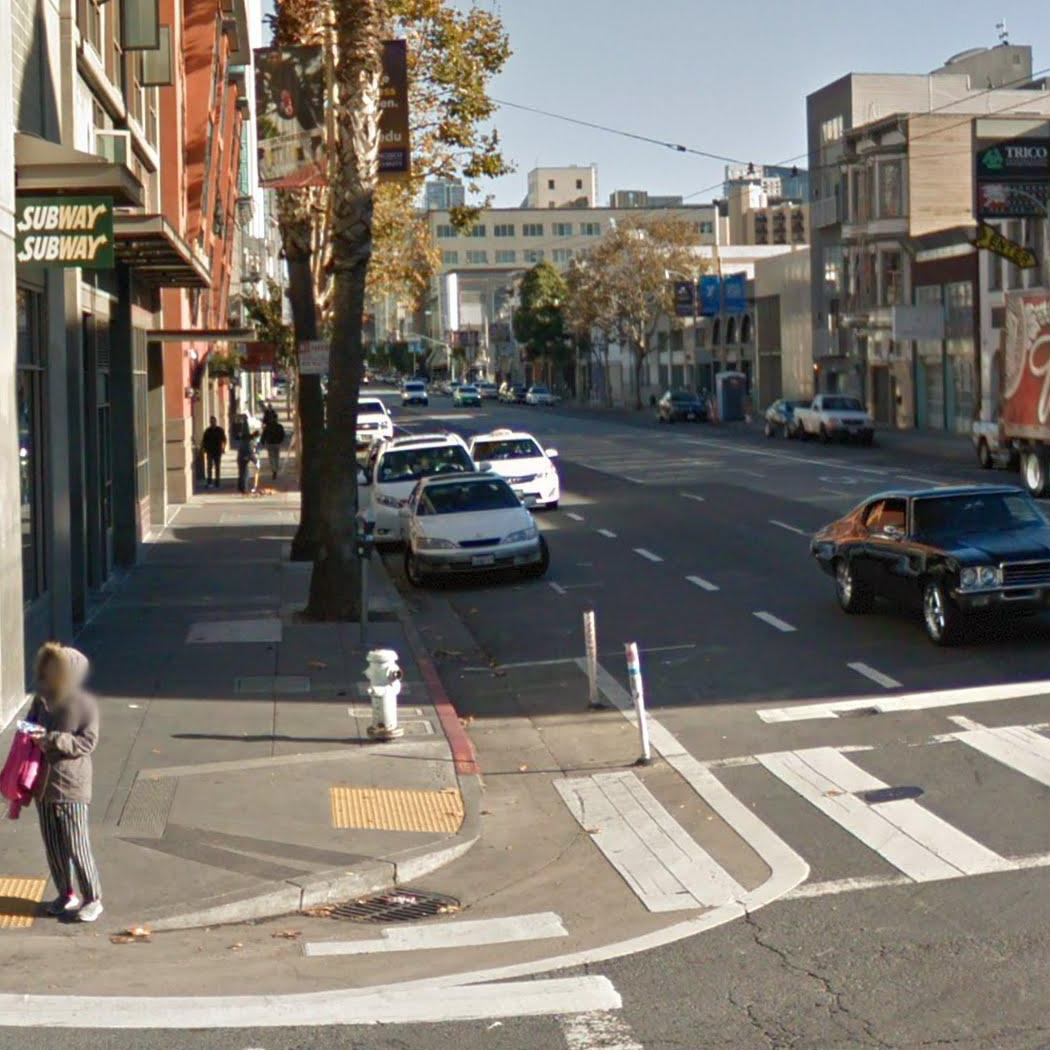No Parking: (297, 339, 334, 376)
